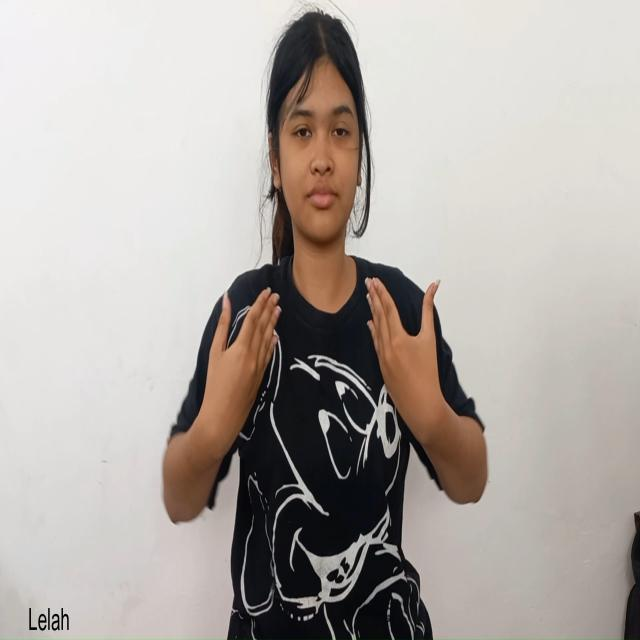Lelah -BISINDO-: (162, 274, 490, 526)
